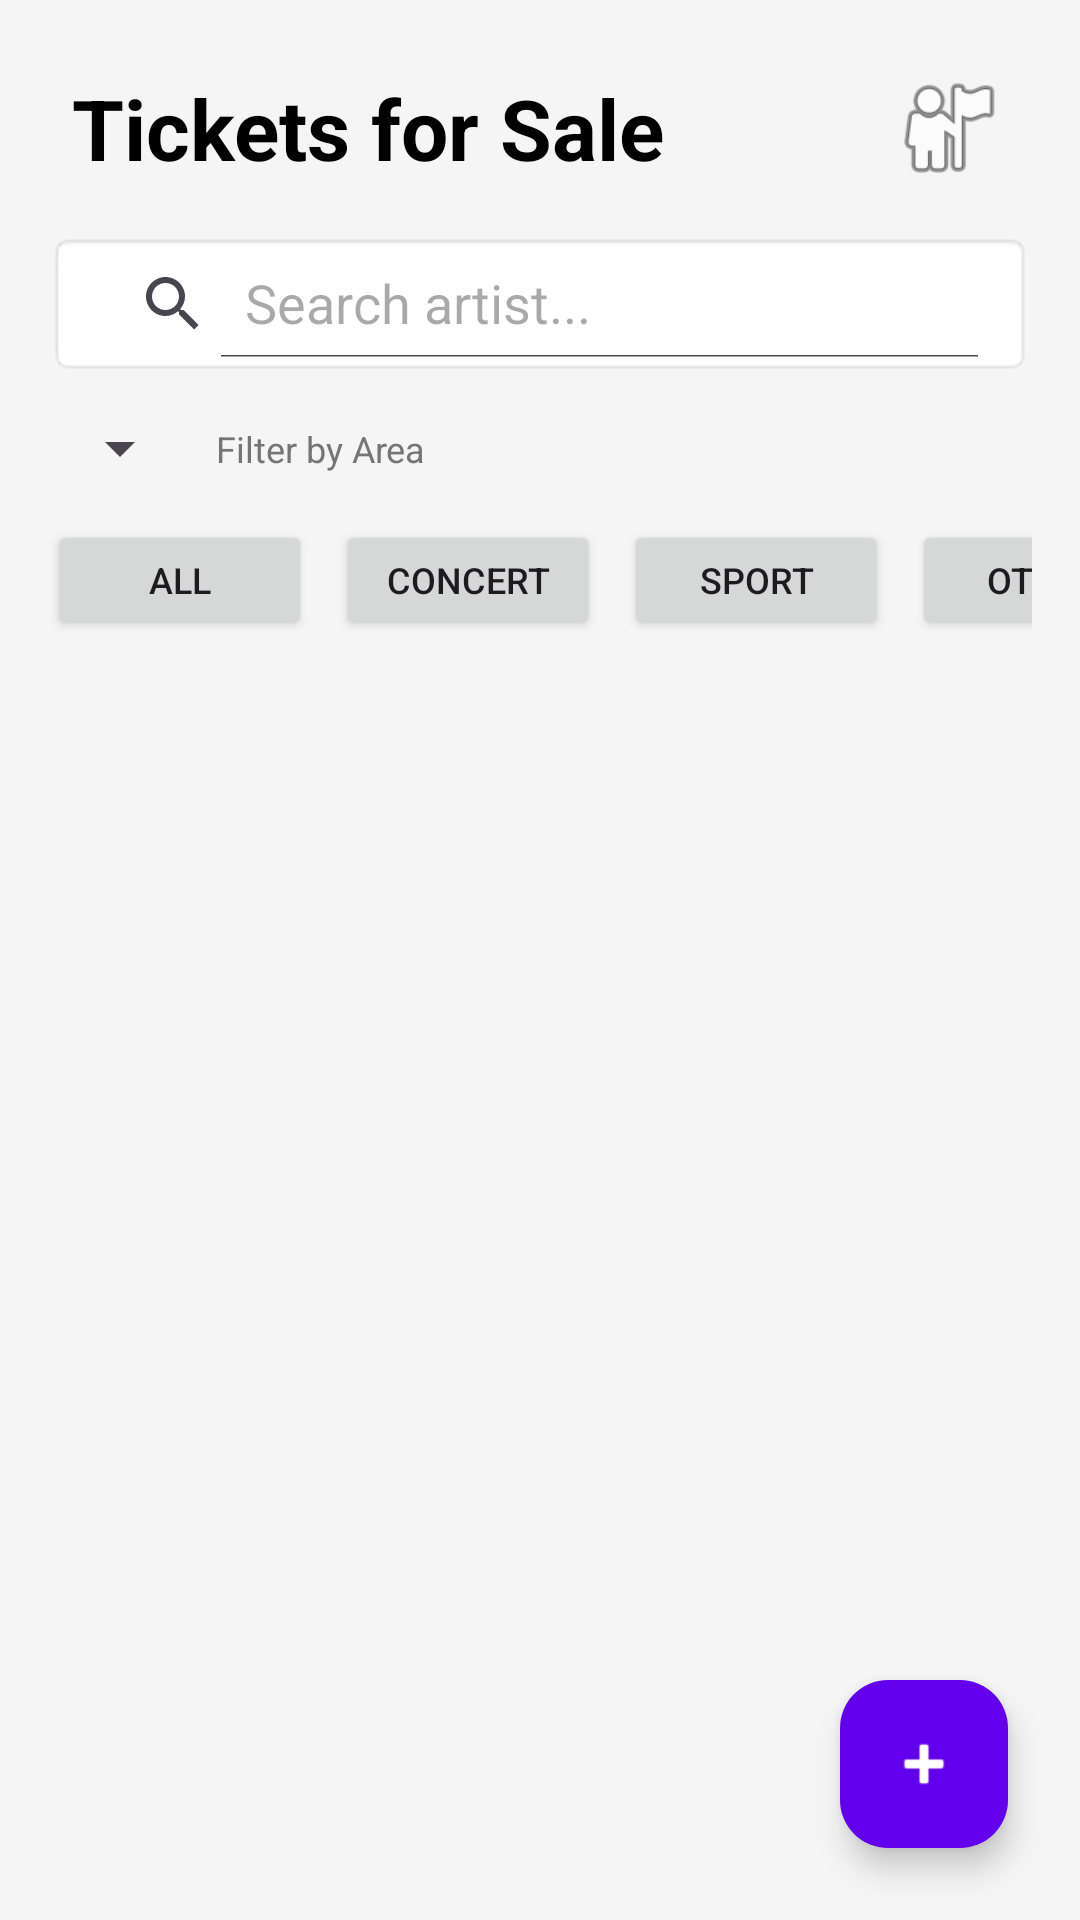

Point at icon controls on the screen. Image size 1080px x 1920px, points as point (x, y).
add: point (924, 1764)
myplaces: point (949, 128)
